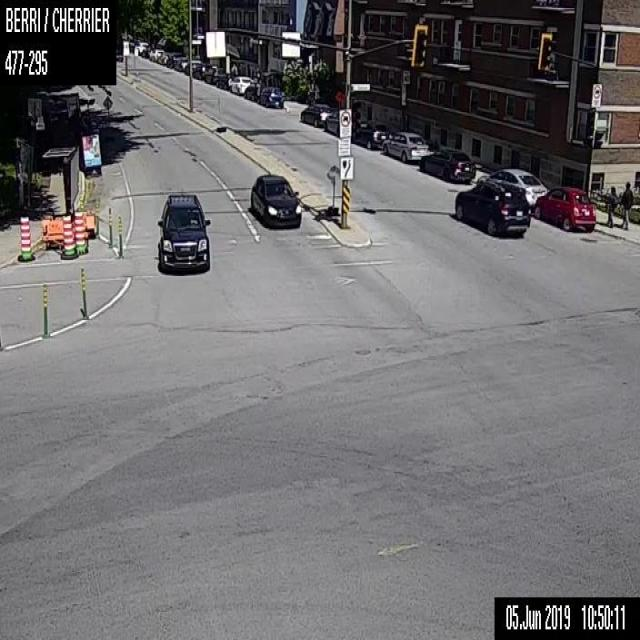construction: (41, 146, 97, 242), (326, 164, 338, 215), (19, 215, 30, 261), (62, 213, 72, 258), (74, 211, 84, 256), (101, 95, 112, 133), (214, 92, 224, 131), (80, 267, 86, 317), (43, 282, 48, 334), (117, 212, 122, 256), (107, 206, 111, 246)
pedestrian: (602, 184, 618, 228), (618, 180, 632, 229)
vehicle: (155, 192, 210, 272), (454, 182, 530, 236), (249, 172, 301, 229), (533, 185, 596, 231), (476, 168, 547, 204), (418, 148, 476, 182), (382, 132, 428, 161), (352, 122, 388, 148), (300, 103, 330, 126), (258, 86, 283, 106), (230, 76, 252, 94), (324, 110, 338, 135), (204, 66, 223, 84), (244, 83, 262, 100), (216, 73, 232, 89), (165, 52, 181, 67), (194, 63, 209, 79), (184, 61, 199, 74), (174, 57, 188, 70), (148, 49, 164, 60), (134, 41, 147, 52), (158, 52, 169, 63), (142, 46, 152, 56)
